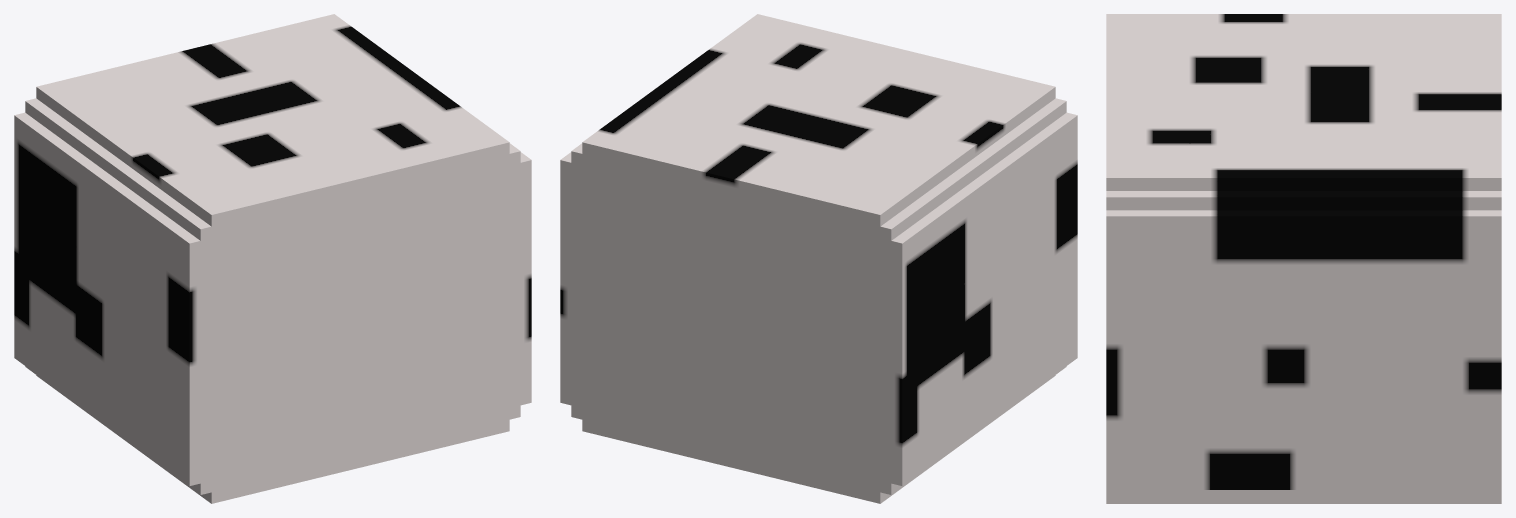
The model's file is CowBodyPart.fbx.
3 renders of one model, left to right at view 1: azimuth 30°, elevation 25°; view 2: azimuth 150°, elevation 25°; view 3: azimuth 270°, elevation 25°, orthographic. The views are drawn at different scales.
Visible parts, largest first — view 1: CowBodyPart; view 2: CowBodyPart; view 3: CowBodyPart.
Part boxes in pixels (left/top/right/bottom): CowBodyPart: left=14, top=14, right=531, bottom=503; CowBodyPart: left=560, top=14, right=1077, bottom=503; CowBodyPart: left=1106, top=14, right=1501, bottom=503.
Size of the model in its own units: 62 by 50 by 55.
